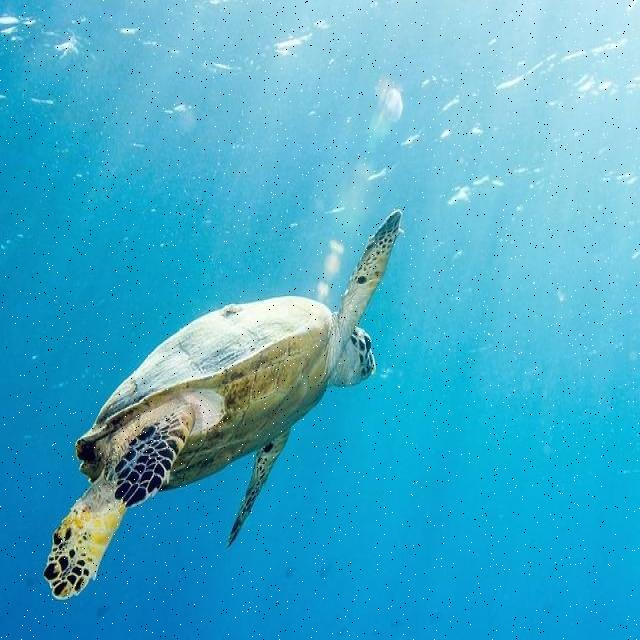fish: (41, 209, 404, 600)
